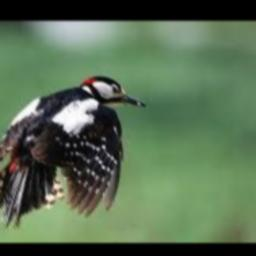Woodpecker: (0, 75, 148, 231)
